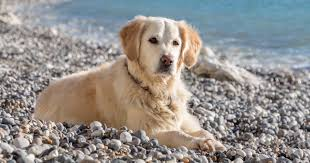Bulldog: (27, 7, 238, 156)
